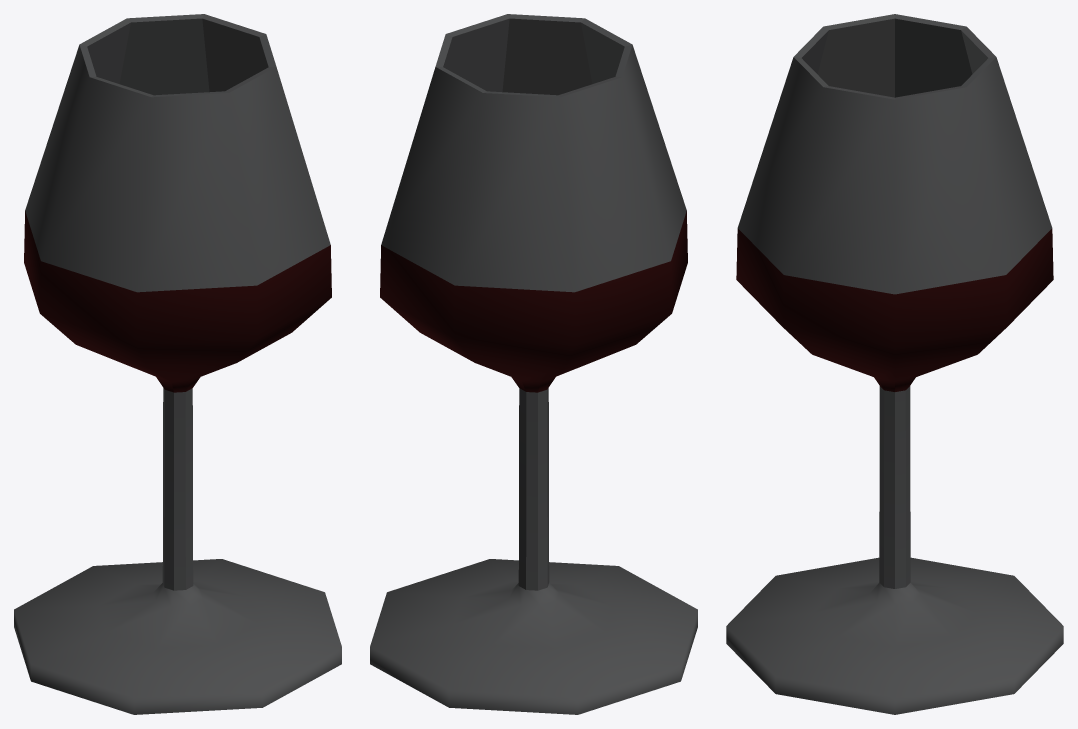
The model's file is Wineglass.fbx.
3 views of the same model, side by side, from view 1: azimuth 30°, elevation 25°; view 2: azimuth 150°, elevation 25°; view 3: azimuth 270°, elevation 25° (orthographic).
Visible parts, largest first — view 1: Wineglass; view 2: Wineglass; view 3: Wineglass.
Boxes of the visible parts, x1,y1,x2,y2 form: Wineglass: (14, 14, 341, 714); Wineglass: (370, 14, 697, 714); Wineglass: (726, 14, 1063, 714).
Bounding box in the file's own units: 0.2351 × 0.4508 × 0.2351.
